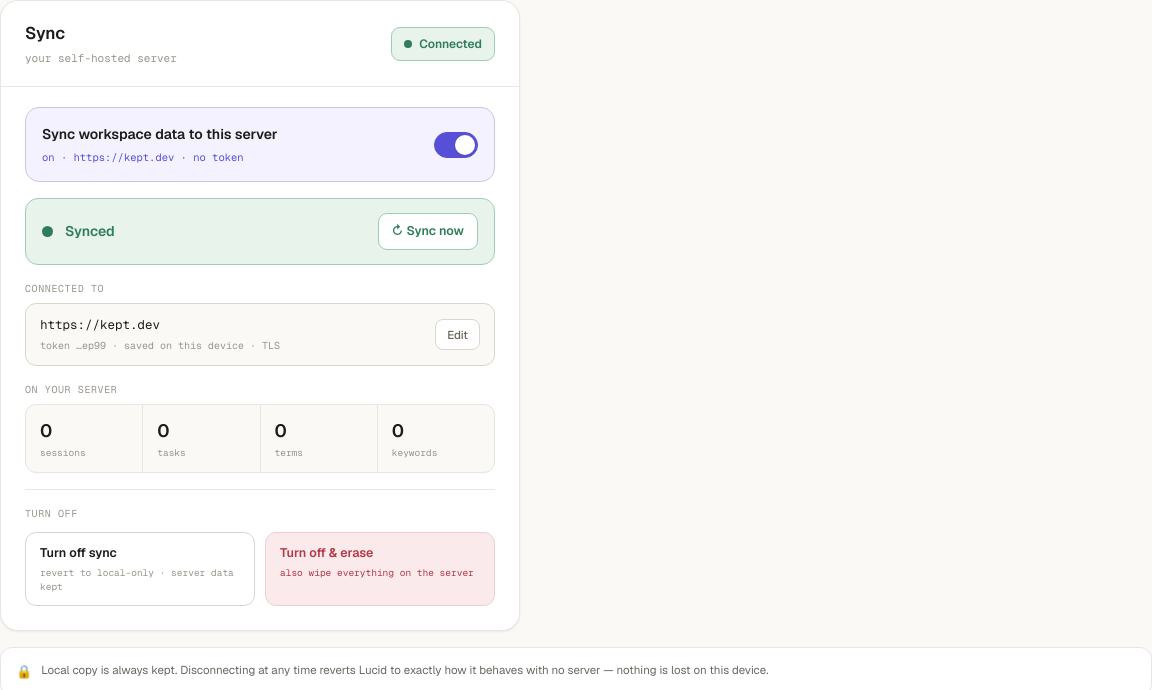
Test: SyncSettingsPanel › Edit re-shows the ConnectForm prefilled with the current config
Click the button "Edit".
click(458, 334)  # box left=435, top=319, right=480, bottom=350
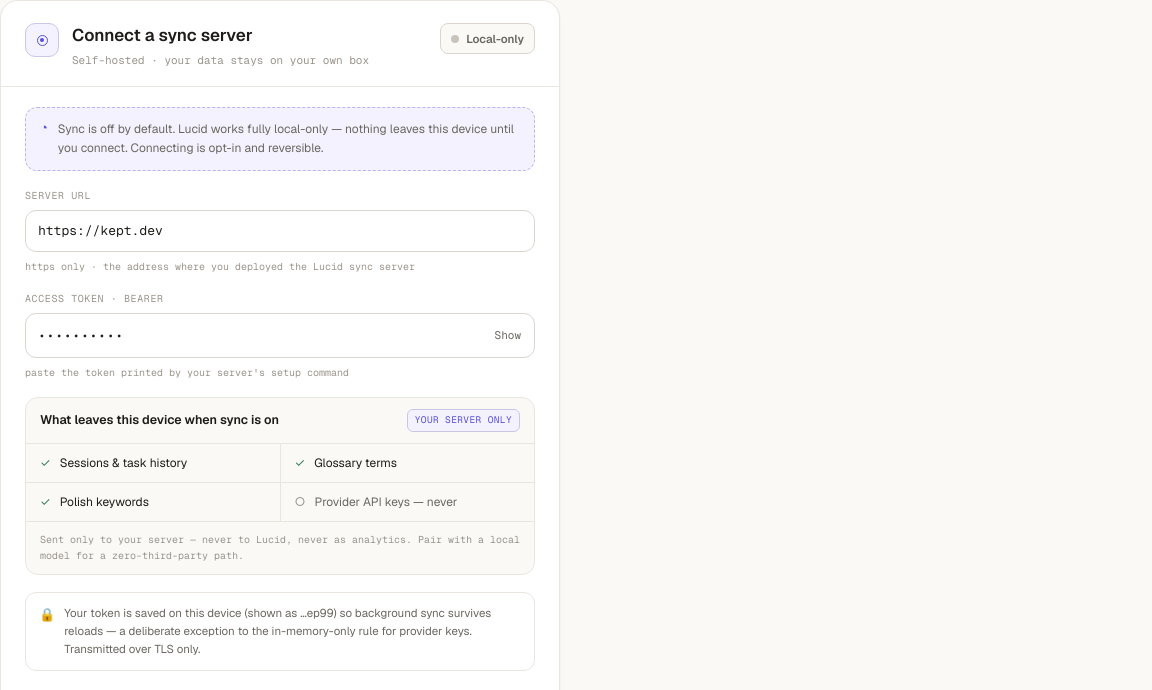
Check: the field labelled "Server URL" holds "https://kept.dev", box left=25, top=210, right=535, bottom=252
Check: the password field labelled "Access token" holds "tok_keep99", box left=38, top=318, right=479, bottom=353
